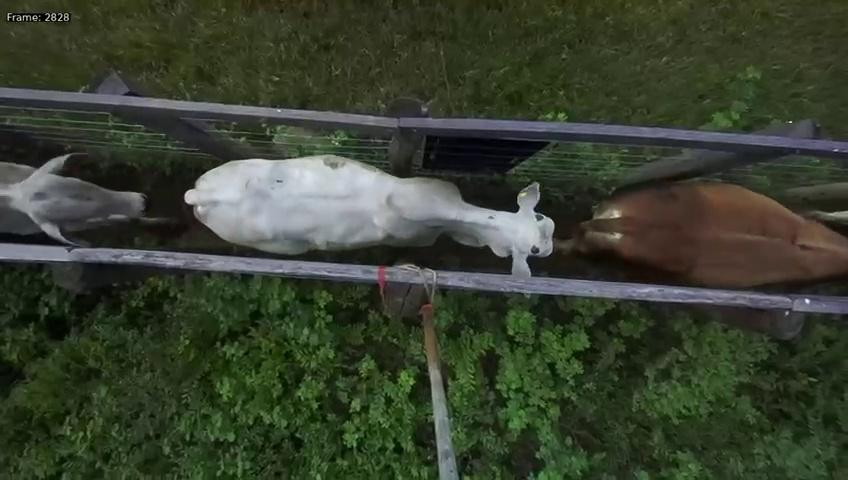cattle: (182, 130, 554, 277)
